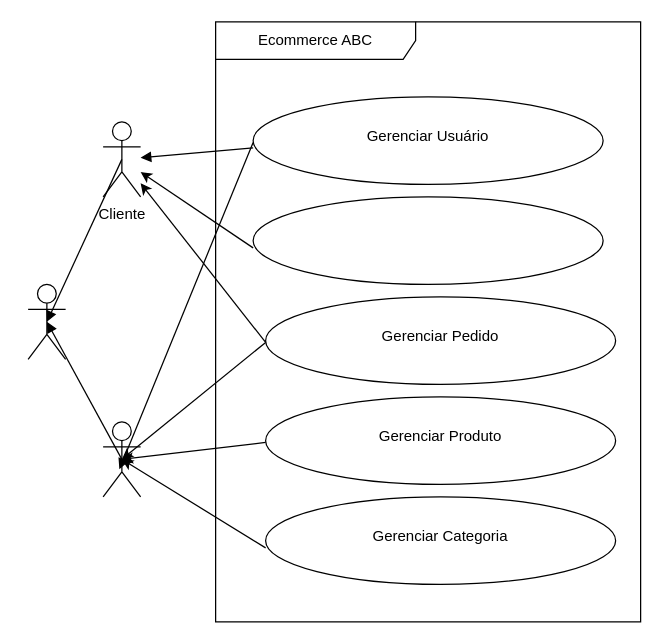
The diagram is 663 pixels wide and 644 high, and some of its shapes have lost their labels. The centre of each missing label's shape, as x and y in pixels:
"Administrador" goes at pixel 121 459.
"Gerenciar Carrinho" goes at pixel 427 240.
"Usuário" goes at pixel 46 321.
